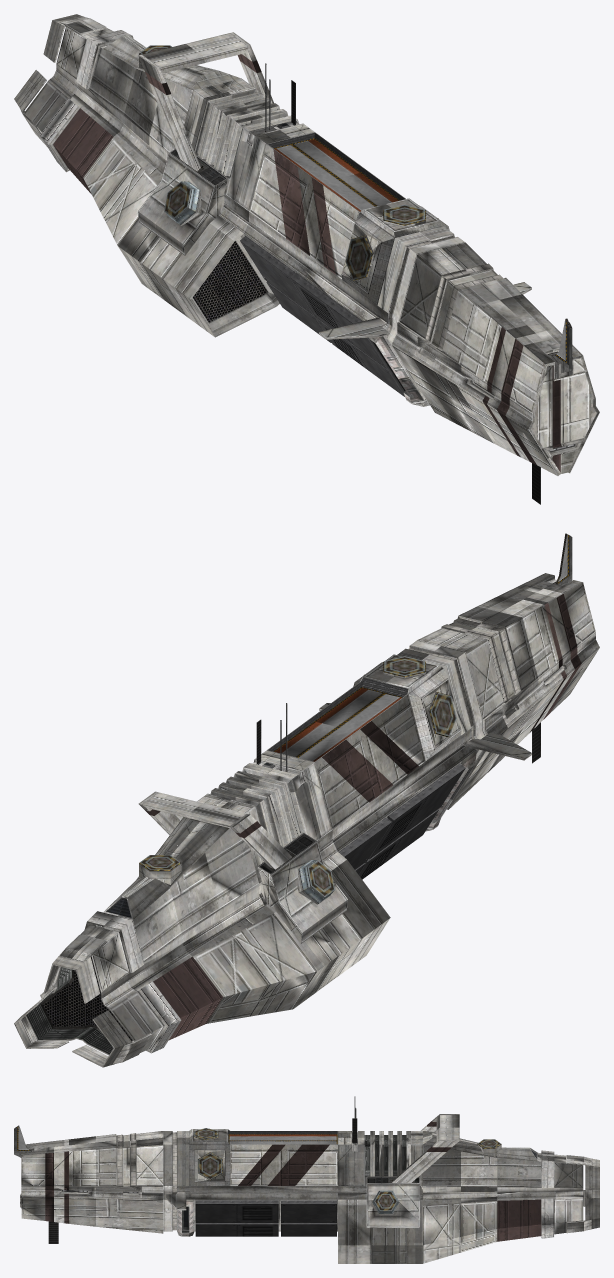
The model's file is FF-789 Sutpen.fbx.
The picture shows the model from 3 angles, top to bottom: view 1: azimuth 30°, elevation 25°; view 2: azimuth 150°, elevation 25°; view 3: azimuth 270°, elevation 25°; orthographic projection. The views are drawn at different scales.
Parts seen in each view (by area): view 1: Hull 1, Hull 1 Color, Hull 4, Cargo, Hull 2, Grill, Turrets, Hull 3; view 2: Hull 1, Hull 1 Color, Hull 4, Cargo, Hull 2, Hull 3, Turrets, Grill; view 3: Hull 1, Cargo, Hull 1 Color, Hull 4, Hull 2, Turrets, Hull 3.
Boxes of the visible parts, x1,y1,x2,y2 form: Hull 1: (14, 14, 599, 475); Hull 1 Color: (53, 54, 561, 472); Hull 4: (40, 30, 572, 406); Cargo: (240, 132, 405, 396); Hull 2: (230, 128, 568, 373); Grill: (193, 241, 267, 322); Turrets: (139, 45, 438, 280); Hull 3: (170, 63, 572, 504); Hull 1: (14, 573, 599, 1067); Hull 1 Color: (145, 594, 581, 1040); Hull 4: (87, 579, 565, 1053); Cargo: (268, 678, 465, 879); Hull 2: (274, 534, 572, 832); Hull 3: (26, 533, 569, 1054); Turrets: (139, 656, 456, 903); Grill: (43, 956, 132, 1041); Hull 1: (20, 1114, 599, 1263); Cargo: (195, 1129, 337, 1236); Hull 1 Color: (20, 1121, 541, 1241); Hull 4: (29, 1129, 554, 1238); Hull 2: (14, 1126, 406, 1185); Turrets: (194, 1128, 501, 1213); Hull 3: (14, 1096, 537, 1243).
Bounding box in the file's own units: 265 × 309 × 1131.
9 materials, 9 textured.
